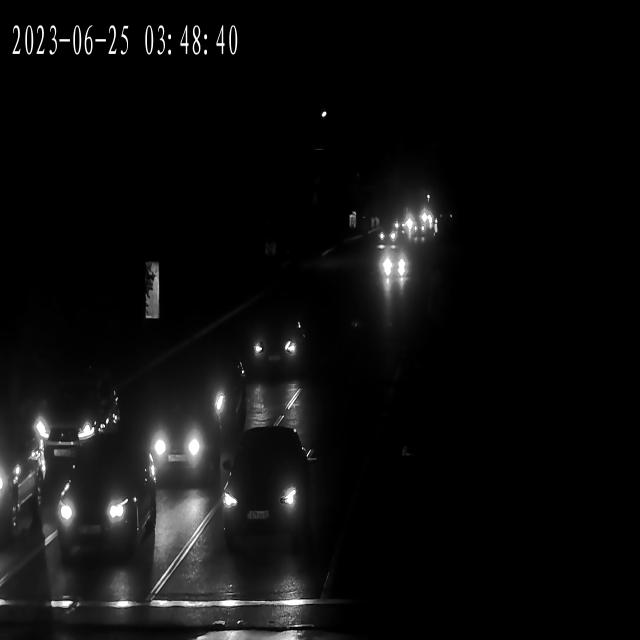Car: (42, 459, 153, 567), (220, 430, 311, 535), (5, 371, 119, 449), (0, 416, 50, 538), (176, 347, 246, 433), (145, 410, 215, 484), (249, 314, 306, 374), (376, 253, 407, 285), (375, 227, 398, 247), (418, 213, 436, 232), (404, 209, 416, 233)
